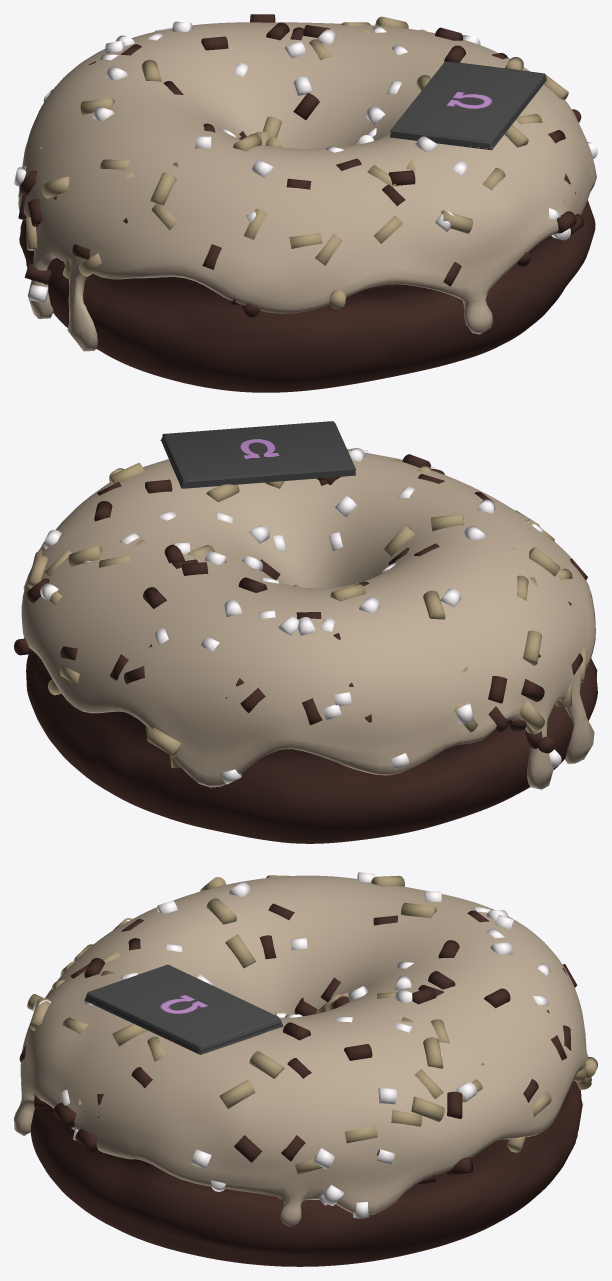
File: donut.gltf
The picture shows the model from 3 angles, top to bottom: view 1: azimuth 30°, elevation 25°; view 2: azimuth 150°, elevation 25°; view 3: azimuth 270°, elevation 25°; orthographic projection. The views are drawn at different scales.
Parts seen in each view (by area): view 1: icing_Torus.003, Donut_Torus.002, Plane, Cylinder.062; view 2: icing_Torus.003, Donut_Torus.002, Plane; view 3: icing_Torus.003, Donut_Torus.002, Plane, Cylinder.194, Cylinder.020.
Part boxes in pixels (left/top/right/bottom): icing_Torus.003: left=18, top=22, right=596, bottom=351; Donut_Torus.002: left=19, top=200, right=595, bottom=392; Plane: left=390, top=61, right=546, bottom=150; Cylinder.062: left=150, top=172, right=176, bottom=205; icing_Torus.003: left=21, top=450, right=595, bottom=789; Donut_Torus.002: left=26, top=653, right=597, bottom=843; Plane: left=160, top=421, right=355, bottom=488; icing_Torus.003: left=14, top=875, right=591, bottom=1226; Donut_Torus.002: left=30, top=1080, right=582, bottom=1266; Plane: left=84, top=964, right=283, bottom=1054; Cylinder.194: left=219, top=1080, right=255, bottom=1108; Cylinder.020: left=411, top=1096, right=444, bottom=1121.
Bounding box in the file's own units: 12.65 × 5.34 × 12.23.
Materials: 6 (1 with a texture image).
